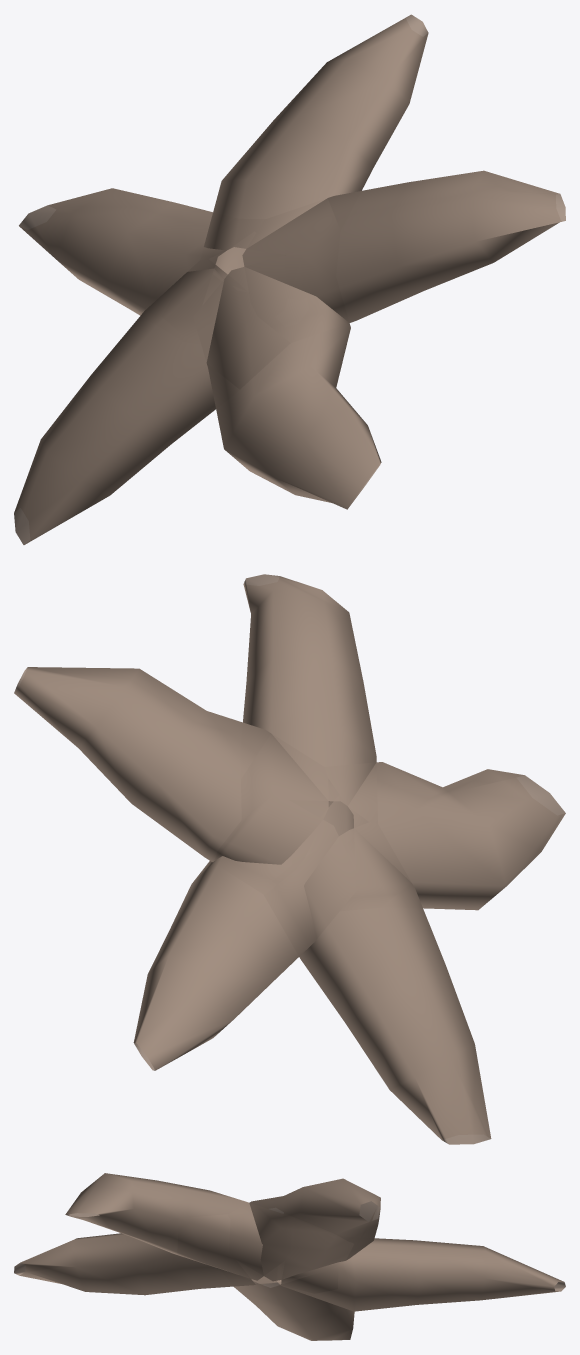
Rendered from SeaStar00.fbx.
The picture shows the model from 3 angles, top to bottom: view 1: azimuth 30°, elevation 25°; view 2: azimuth 150°, elevation 25°; view 3: azimuth 270°, elevation 25°; orthographic projection. The views are drawn at different scales.
Parts seen in each view (by area): view 1: starfishFat3Flower1; view 2: starfishFat3Flower1; view 3: starfishFat3Flower1.
Boxes of the visible parts, box(x1,y1,x2,y2) form: starfishFat3Flower1: box(14, 14, 565, 544); starfishFat3Flower1: box(14, 574, 565, 1144); starfishFat3Flower1: box(14, 1173, 565, 1340).
Bounding box in the file's own units: 0.1816 × 0.1571 × 0.2661.
